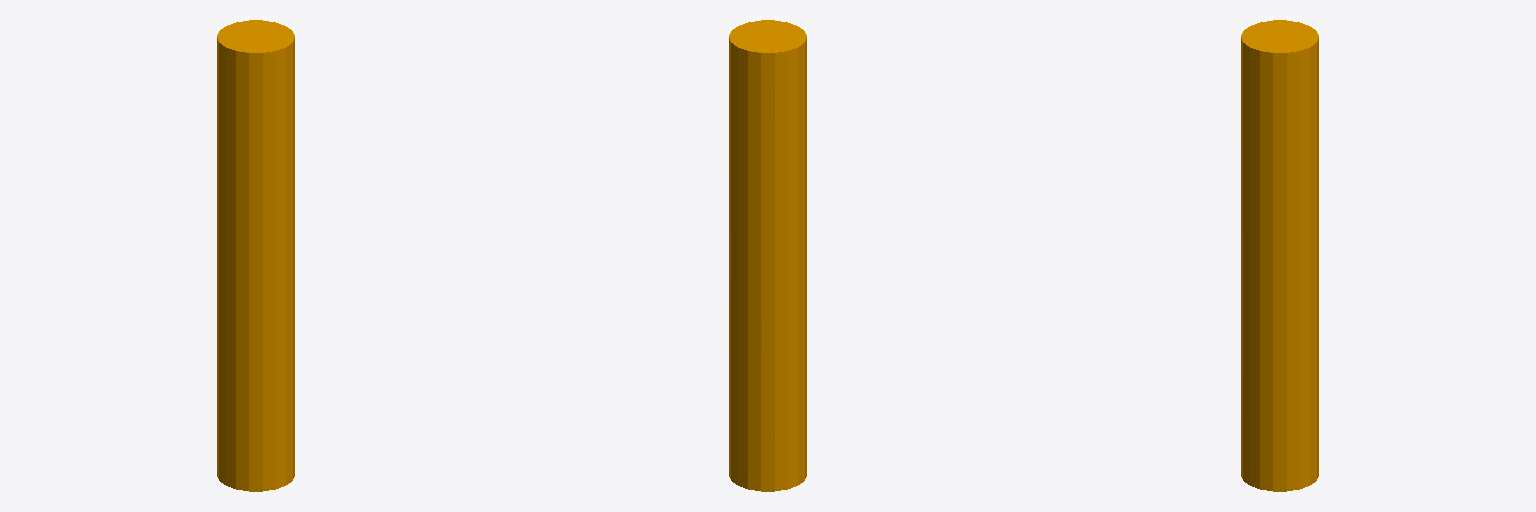
The robot description file, URDF, robot "00860_plug":
<?xml version="1.0"?>
<robot name="00860_plug">
	<link name="00860_plug">
		<visual>
			<geometry>
				<mesh filename="../mesh/00860/asset_plug.obj"/>
			</geometry>
		</visual>
		<collision>
			<geometry>
				<mesh filename="../mesh/00860/asset_plug.obj"/>
			</geometry>
			<sdf resolution="256"/>
		</collision>
	</link>
</robot>

--- What the picture shows (computed from the rendered views, not written in the file) ---
Views: 3 orthographic renders of the robot side by side, from view 1: azimuth 30°, elevation 25°; view 2: azimuth 150°, elevation 25°; view 3: azimuth 270°, elevation 25°.
Robot: 00860_plug — 1 links, 0 joints (none); root link 00860_plug; default pose: every joint at zero.
Links seen in each view (by area): view 1: 00860_plug; view 2: 00860_plug; view 3: 00860_plug.
Boxes of the visible links, x1,y1,x2,y2 form: 00860_plug: [217, 20, 294, 491]; 00860_plug: [729, 20, 806, 491]; 00860_plug: [1241, 20, 1318, 491].
Size in the robot's own frame: 0.008 by 0.0081 by 0.05 metres.
Meshes: 1 distinct files referenced, 1 mesh visuals loaded (1 OBJ).
